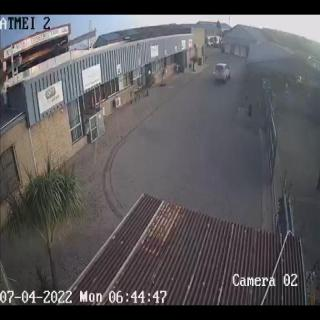car: (214, 63, 230, 81)
